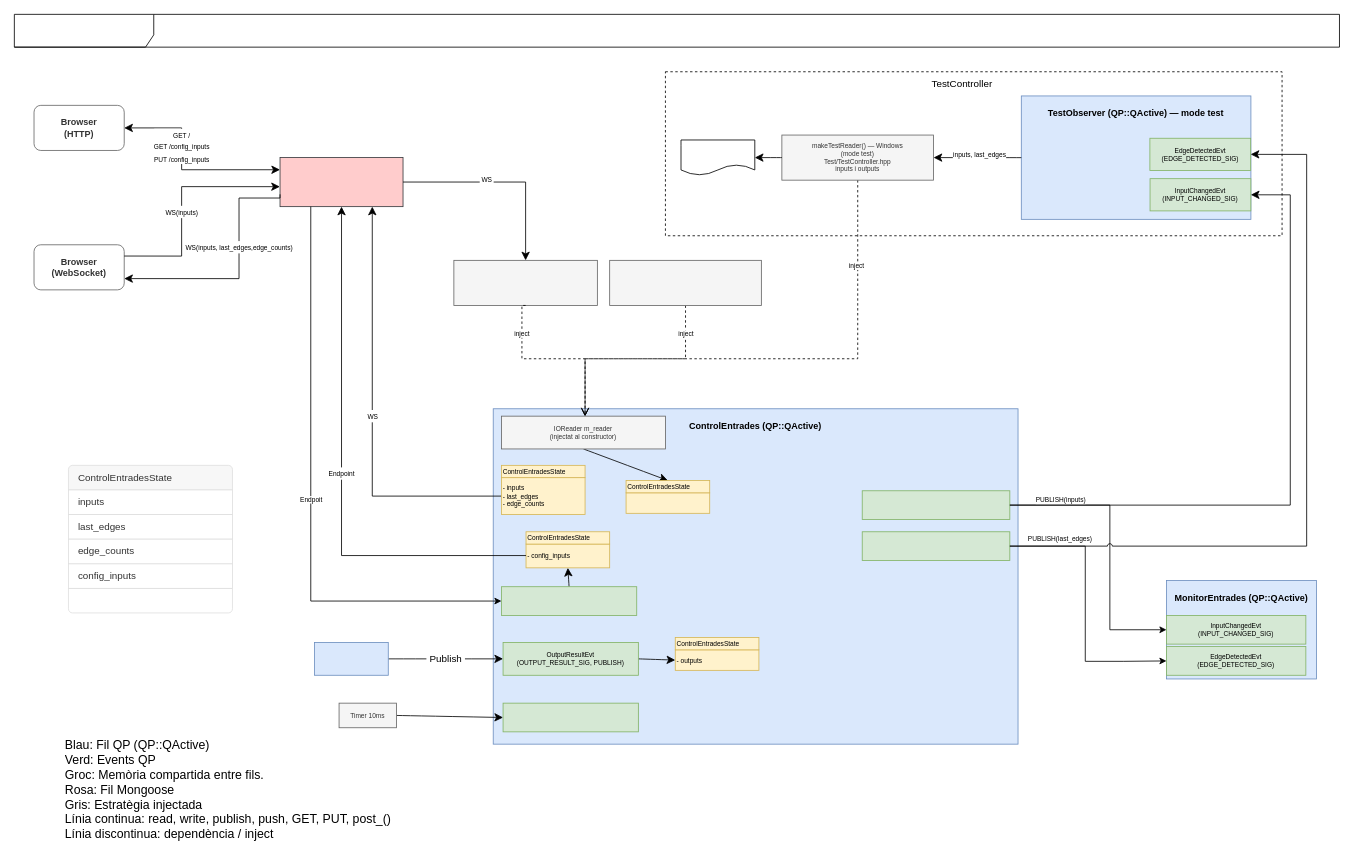
Some shapes in this 1354 by 857 pixel diagram are drawn without their labels. The shapes that lost their labels are listed below. From the top down, each one's centre as x and y in pixels, then its label:
At [676,30]: "ControlEntrades / Maig 2026".
At [717,157]: "test_result.log".
At [341,182]: "HttpServer (thread Mongoose)".
At [525,282]: "makeWSInputReader() — Windows RemoteIO/InputReader_WS.hpp inputs".
At [685,282]: "makeHWInputReader() — ESP32 HWReader/InputReader_HW.hpp inputs".
At [667,502]: "- inputs".
At [935,504]: "InputChangedEvt (INPUT_CHANGED_SIG, PUBLISH)".
At [935,545]: "EdgeDetectedEvt (EDGE_DETECTED_SIG, PUBLISH)".
At [150,600]: "outputs".
At [569,600]: "ReconfigureEvt (RECONFIGURE_SIG, POST)".
At [351,658]: "ControlRemot".
At [570,717]: "QTimeEvt (EDGE_DETECTOR_POLL_SIG, intern)".
